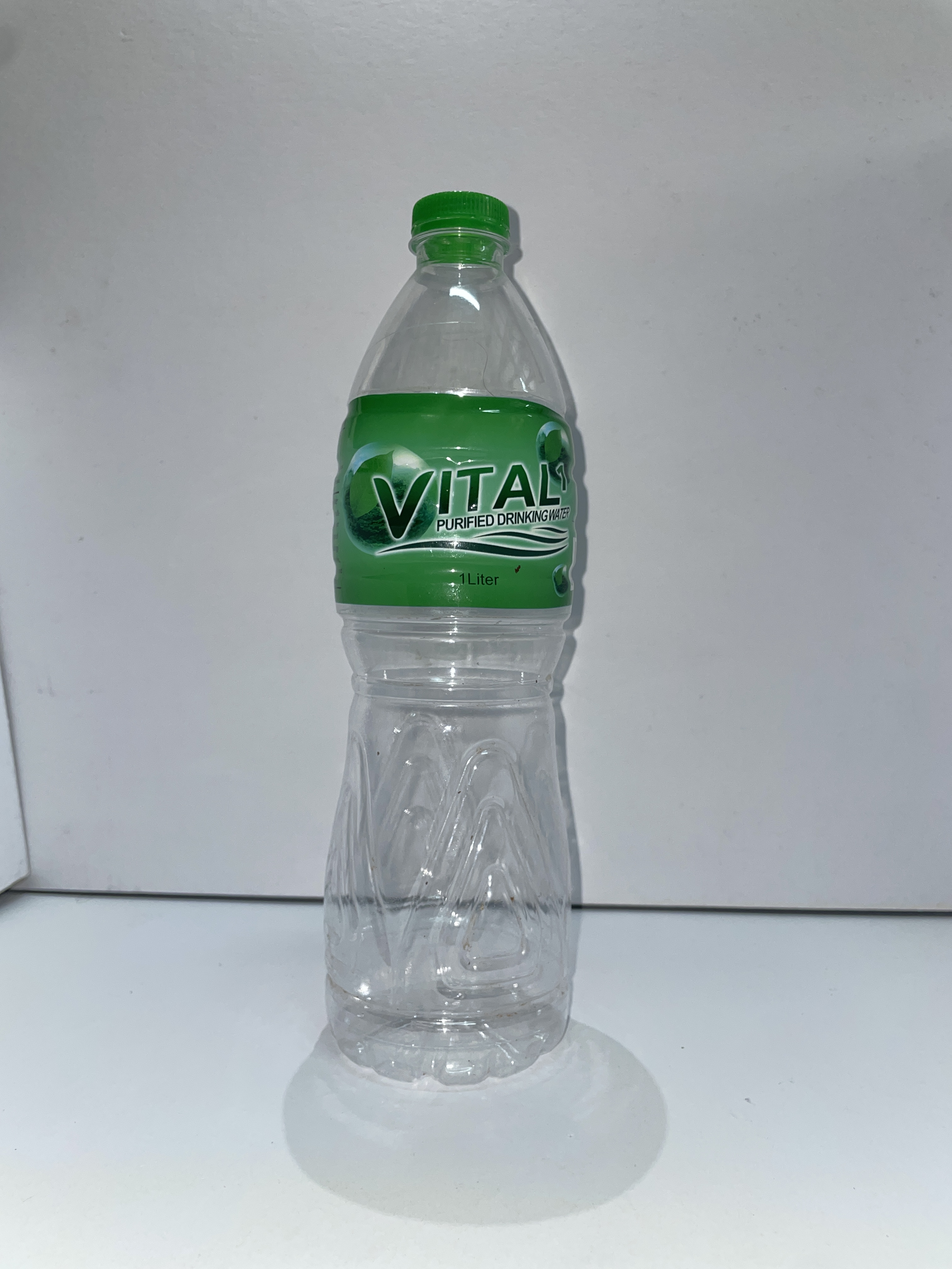Vital 1000ml: (325, 191, 578, 1083)
